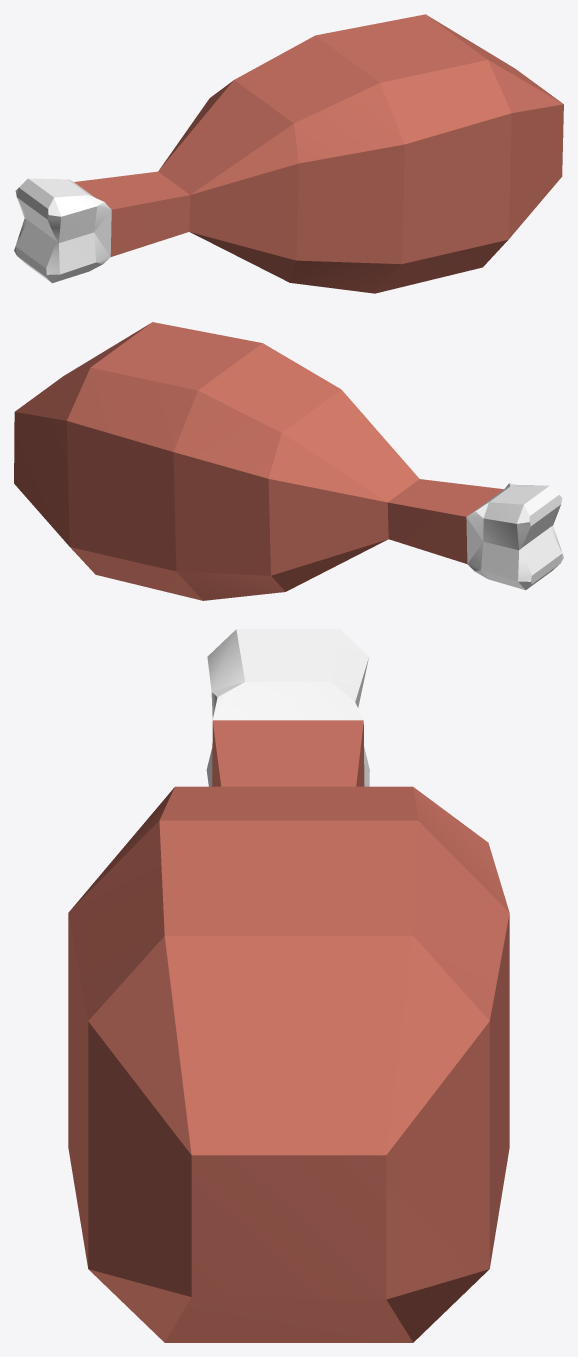
File: Chicken_02.fbx
3 views of the same model, one above another, from view 1: azimuth 30°, elevation 25°; view 2: azimuth 150°, elevation 25°; view 3: azimuth 270°, elevation 25° (orthographic). The views are drawn at different scales.
Visible parts, largest first — view 1: Chicken_02; view 2: Chicken_02; view 3: Chicken_02.
Boxes of the visible parts, left/top/right/bottom form: Chicken_02: left=14, top=14, right=563, bottom=293; Chicken_02: left=14, top=322, right=563, bottom=600; Chicken_02: left=68, top=629, right=509, bottom=1342.
Bounding box in the file's own units: 16.99 × 6.72 × 6.38.
